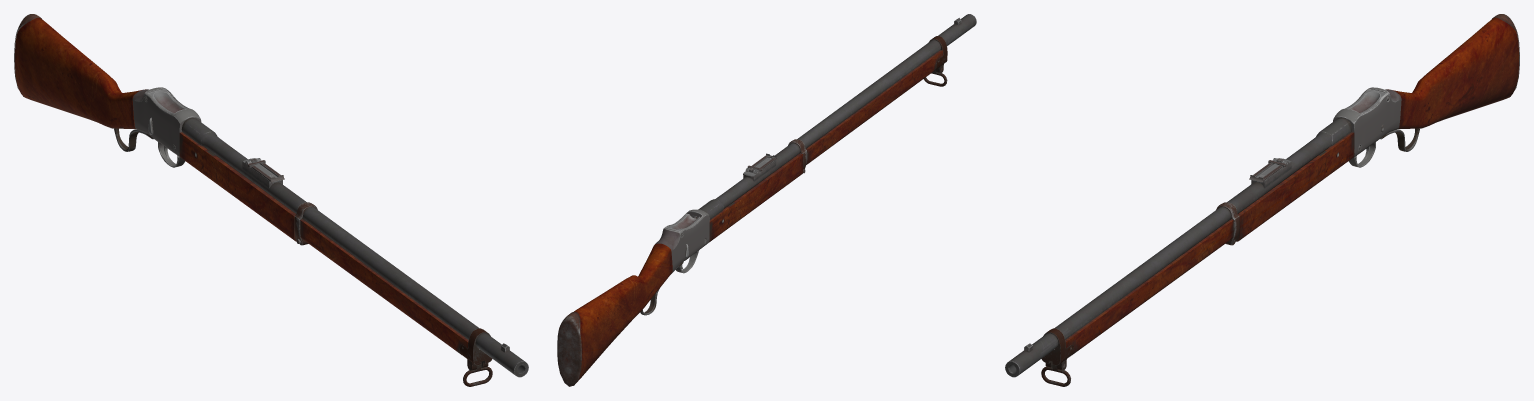
The model's file is Rifle_gun.glb.
3 views of the same model, side by side, from view 1: azimuth 30°, elevation 25°; view 2: azimuth 150°, elevation 25°; view 3: azimuth 330°, elevation 25° (orthographic). The views are drawn at different scales.
Parts seen in each view (by area): view 1: part.012_low.001, part.014_low.001; view 2: part.012_low.001; view 3: part.012_low.001, part.014_low.001.
Boxes of the visible parts, x1=… form: part.012_low.001: x1=14, y1=14, x2=528, y2=386; part.014_low.001: x1=147, y1=88, x2=187, y2=113; part.012_low.001: x1=557, y1=14, x2=976, y2=386; part.012_low.001: x1=1005, y1=14, x2=1519, y2=386; part.014_low.001: x1=1346, y1=88, x2=1386, y2=113.
Size of the model in its own units: 0.0646 by 0.2129 by 1.84.
1 material, 1 textured.
